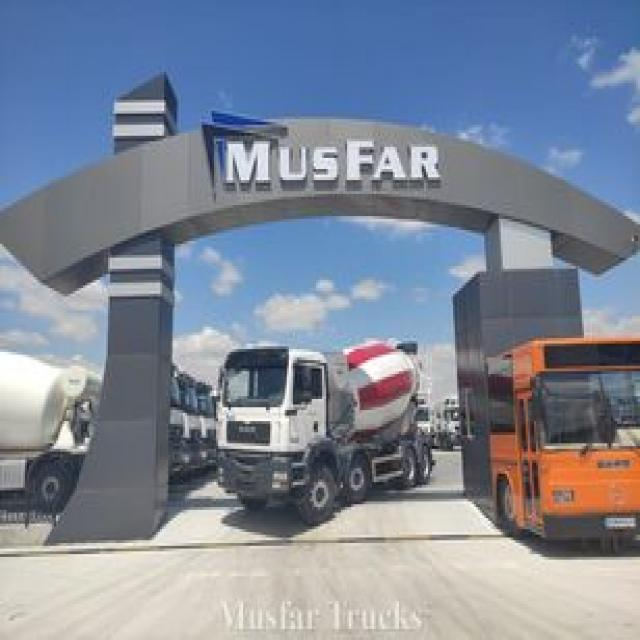Mixer Truck: (214, 332, 435, 528), (0, 349, 113, 515)
